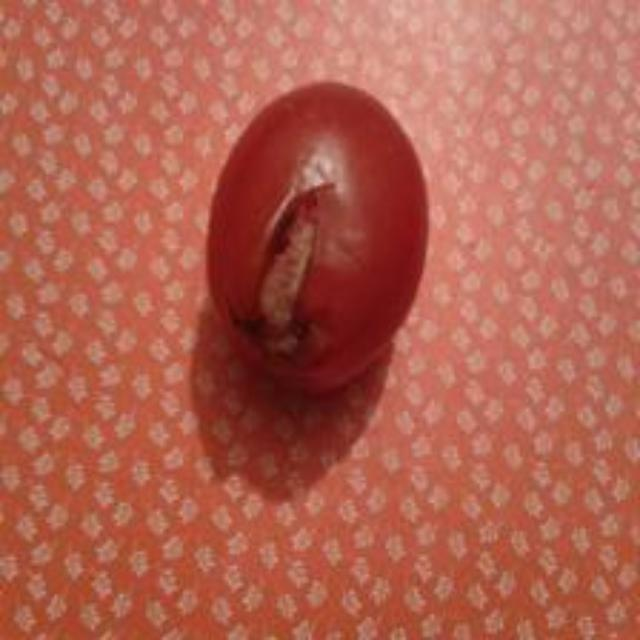defect: (200, 71, 435, 401)
